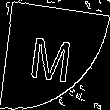M_N: (31, 27, 79, 83)
